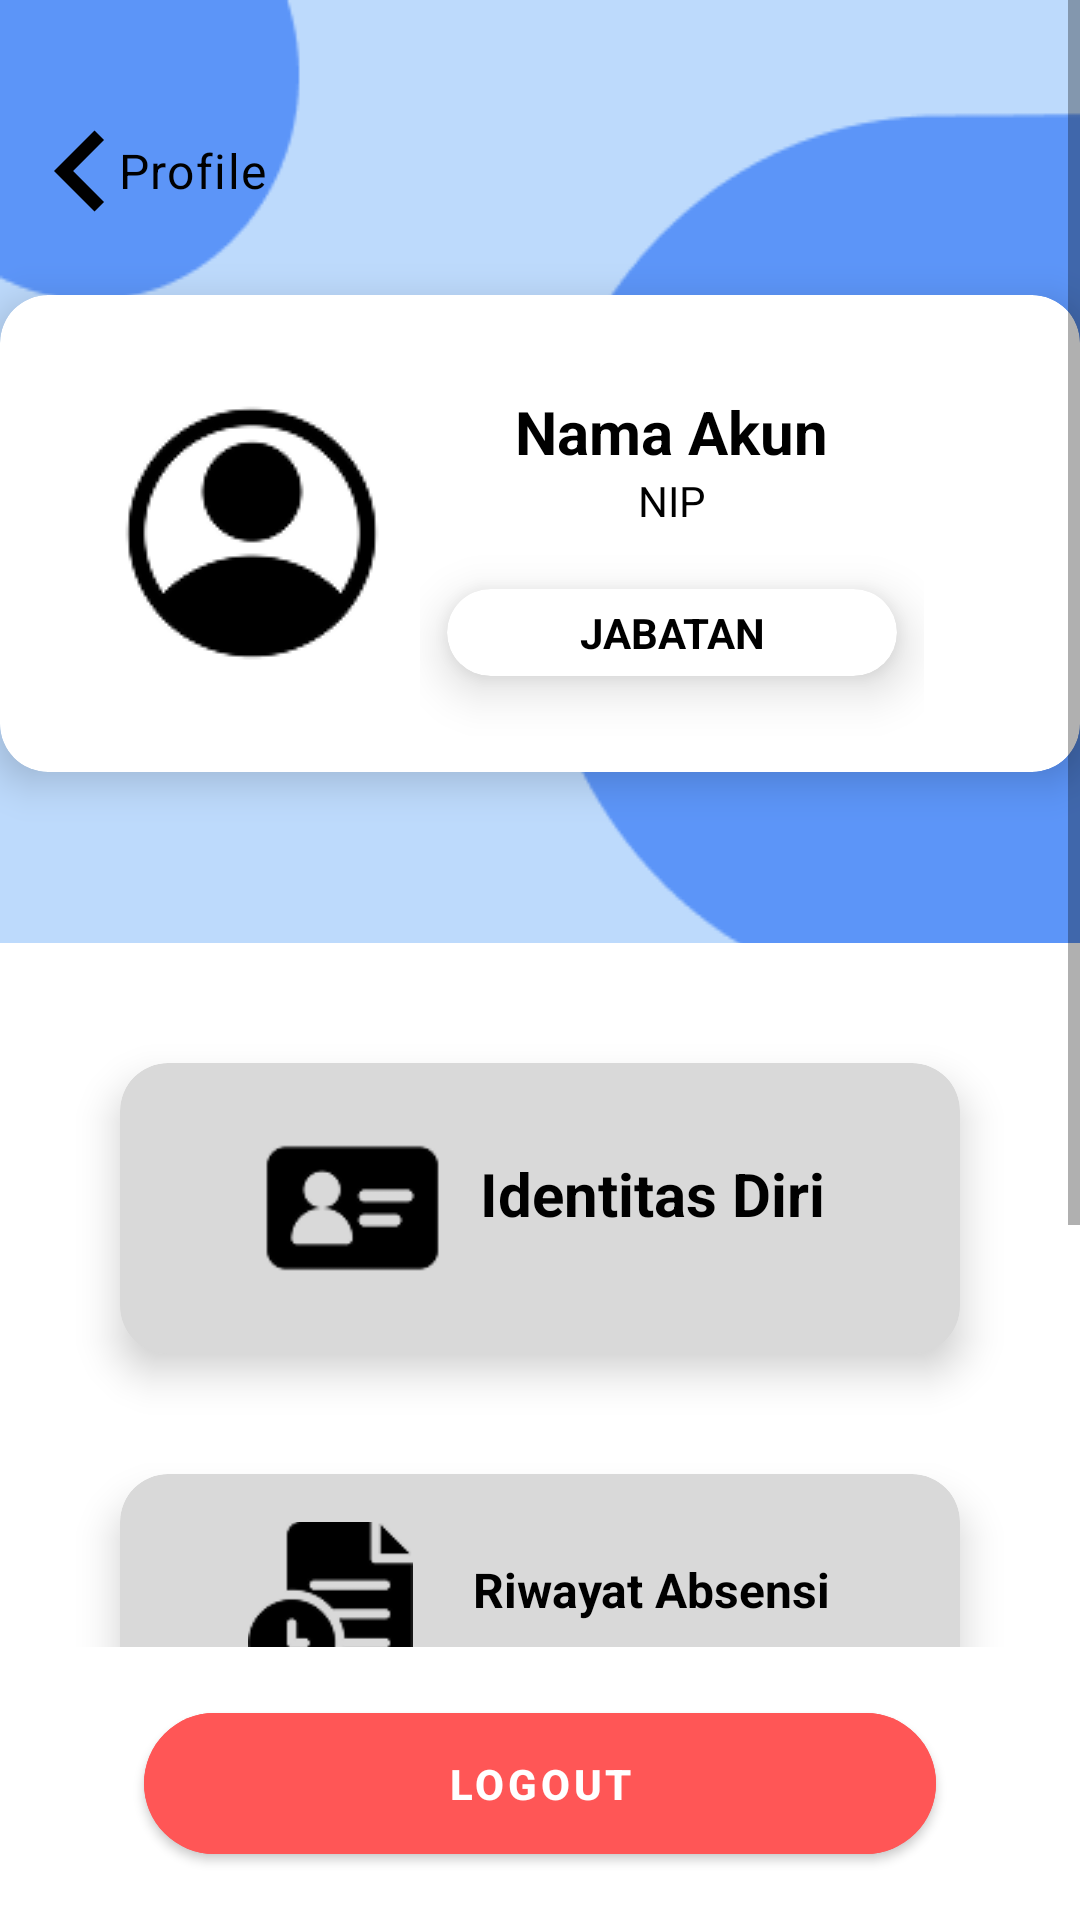

Icon click points for this 1080px x 1920px phone screenshot, format [x,y]:
account: [251,533]
